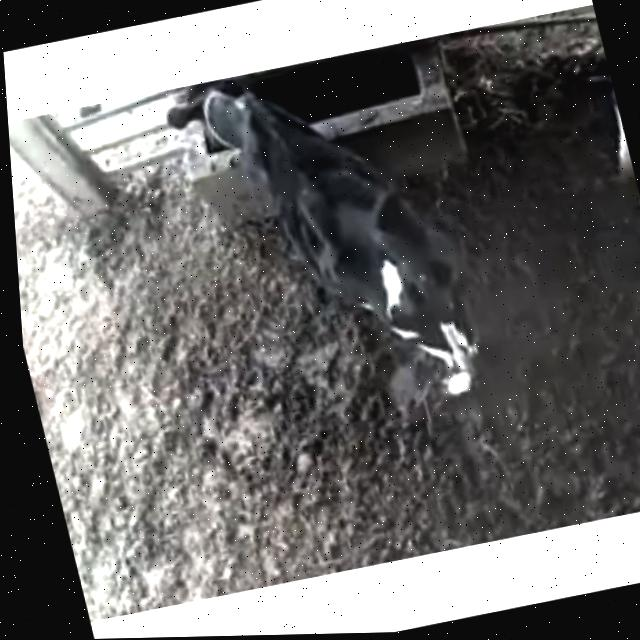drink: (157, 57, 359, 211)
